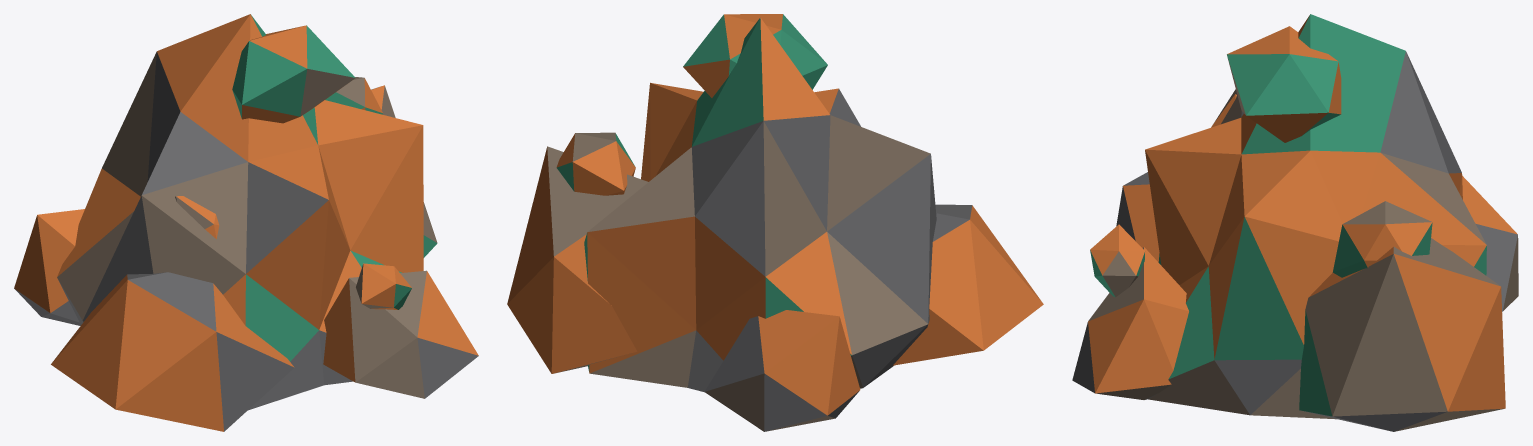
File: copper_ore_a.glb
3 views of the same model, side by side, from view 1: azimuth 30°, elevation 25°; view 2: azimuth 150°, elevation 25°; view 3: azimuth 270°, elevation 25° (orthographic). The views are drawn at different scales.
Parts seen in each view (by area): view 1: copper_ore_a; view 2: copper_ore_a; view 3: copper_ore_a.
Boxes of the visible parts, box(x1,y1,x2,y2) form: copper_ore_a: box(14, 14, 478, 431); copper_ore_a: box(507, 14, 1043, 431); copper_ore_a: box(1072, 14, 1518, 431).
Size of the model in its own units: 1.2 by 0.8878 by 1.07.
